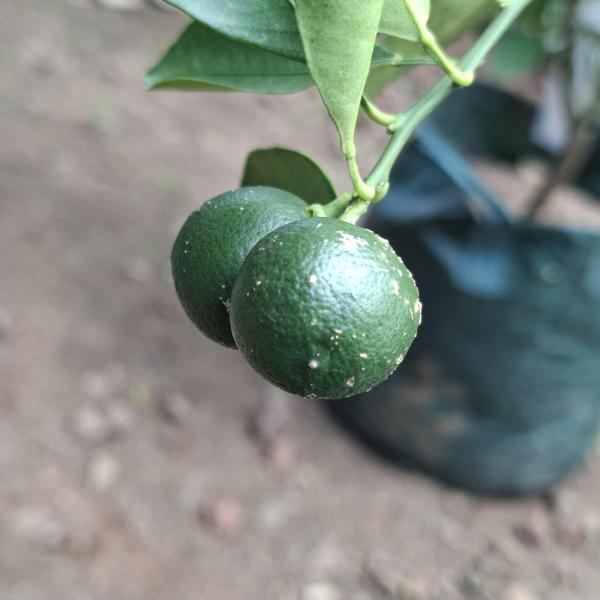Scab: (230, 214, 433, 412), (160, 180, 327, 356)
